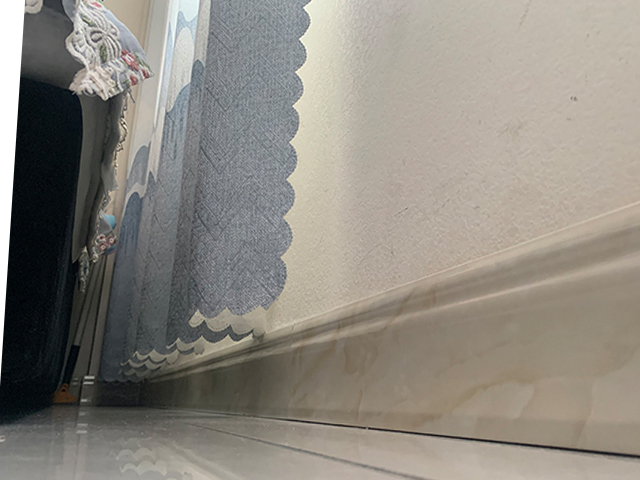curtain: (98, 1, 313, 386)
